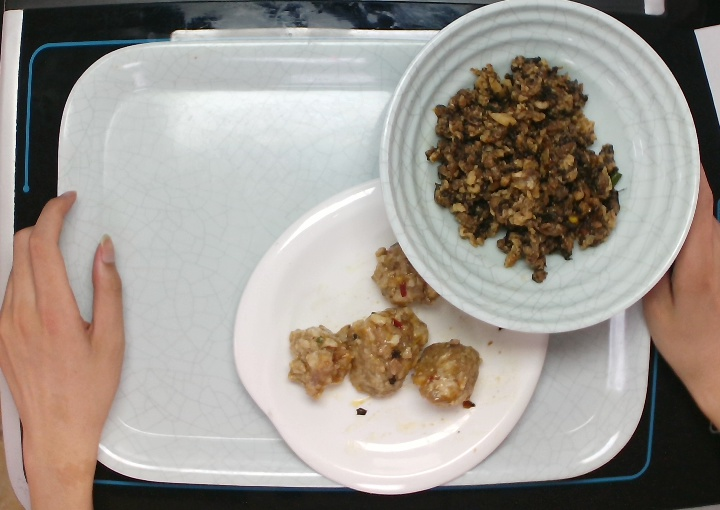JYsf-Da_Tang_Wan: (374, 1, 703, 338)
JYsf-Mian_Pan: (227, 171, 555, 501)
